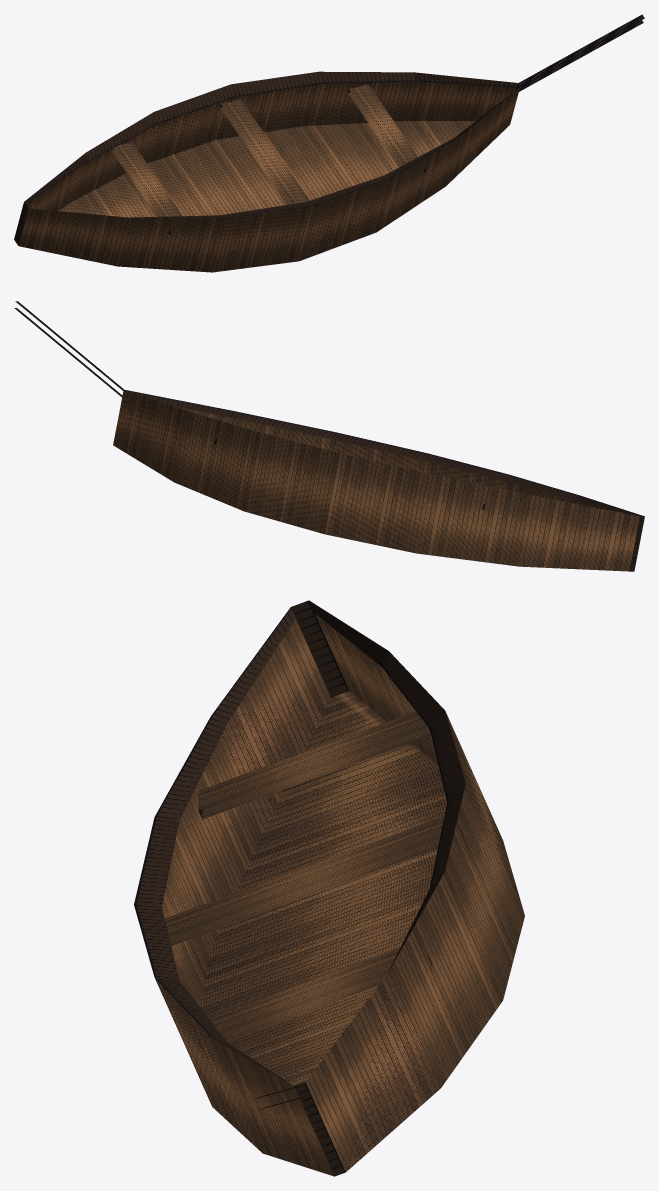
The model's file is MAR-04_Bote_amarrado_b.gltf.
3 views of the same model, one above another, from view 1: azimuth 30°, elevation 25°; view 2: azimuth 150°, elevation 25°; view 3: azimuth 270°, elevation 25° (orthographic). The views are drawn at different scales.
Parts seen in each view (by area): view 1: MAR-04_Bote_amarrado_b-convcol; view 2: MAR-04_Bote_amarrado_b-convcol; view 3: MAR-04_Bote_amarrado_b-convcol.
Boxes of the visible parts, bbox=[...] form: MAR-04_Bote_amarrado_b-convcol: bbox=[14, 14, 644, 272]; MAR-04_Bote_amarrado_b-convcol: bbox=[14, 301, 644, 571]; MAR-04_Bote_amarrado_b-convcol: bbox=[134, 600, 524, 1176].
Bounding box in the file's own units: 6.65 × 1.53 × 1.86.
Materials: 1 (1 with a texture image).
